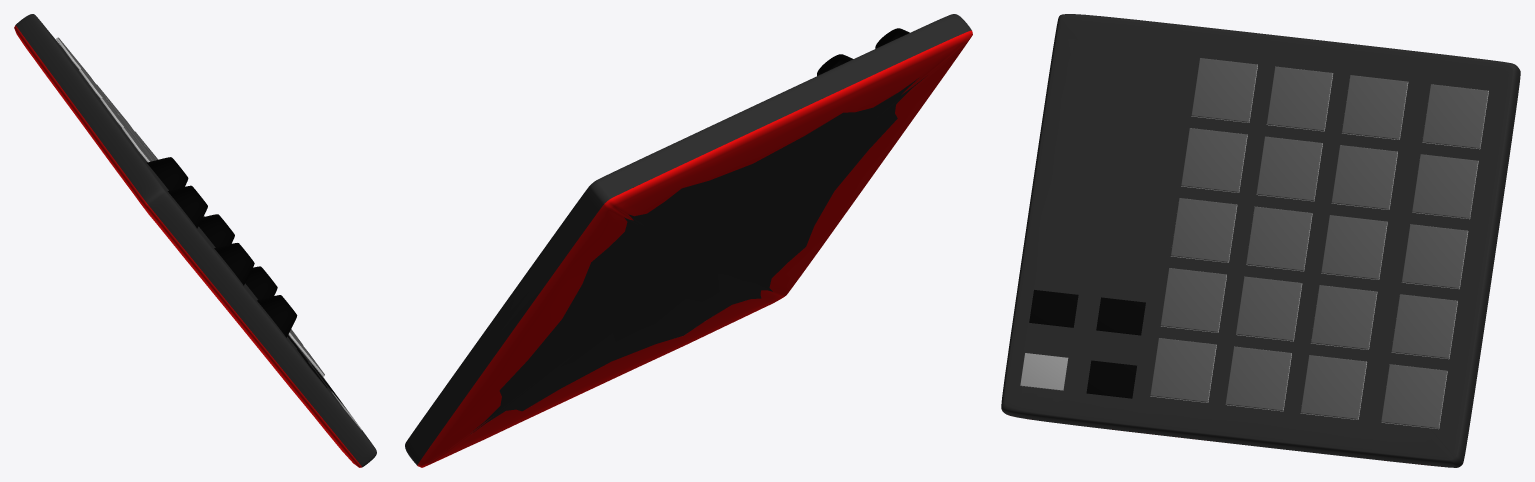
File: drumpad-transformed.glb
3 renders of one model, left to right at view 1: azimuth 30°, elevation 25°; view 2: azimuth 150°, elevation 25°; view 3: azimuth 270°, elevation 25°, orthographic. The views are drawn at different scales.
Visible parts, largest first — view 1: drumpad; view 2: drumpad; view 3: drumpad.
Boxes of the visible parts, box(x1,y1,x2,y2) form: drumpad: box(14, 14, 376, 467); drumpad: box(405, 14, 972, 467); drumpad: box(1001, 14, 1520, 467).
Bounding box in the file's own units: 2.58 × 2.61 × 3.81.
